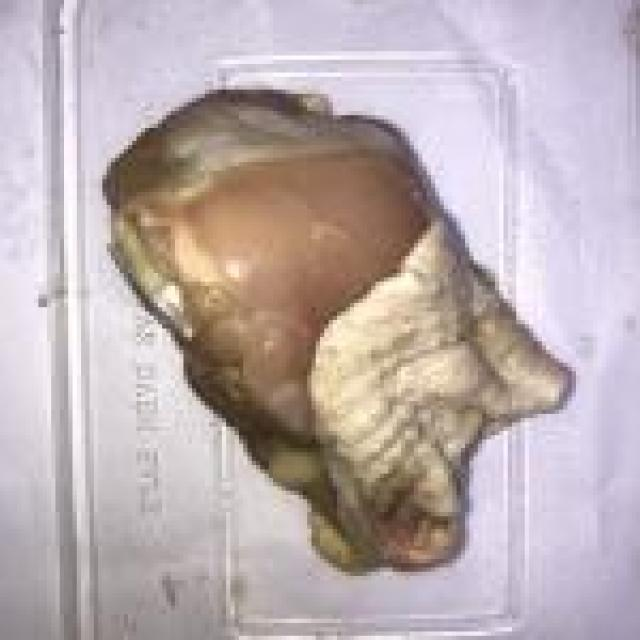breast: (89, 96, 532, 579)
